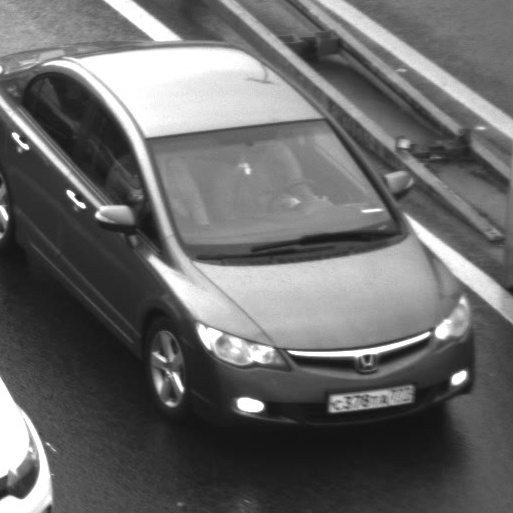plate: (318, 374, 422, 419)
